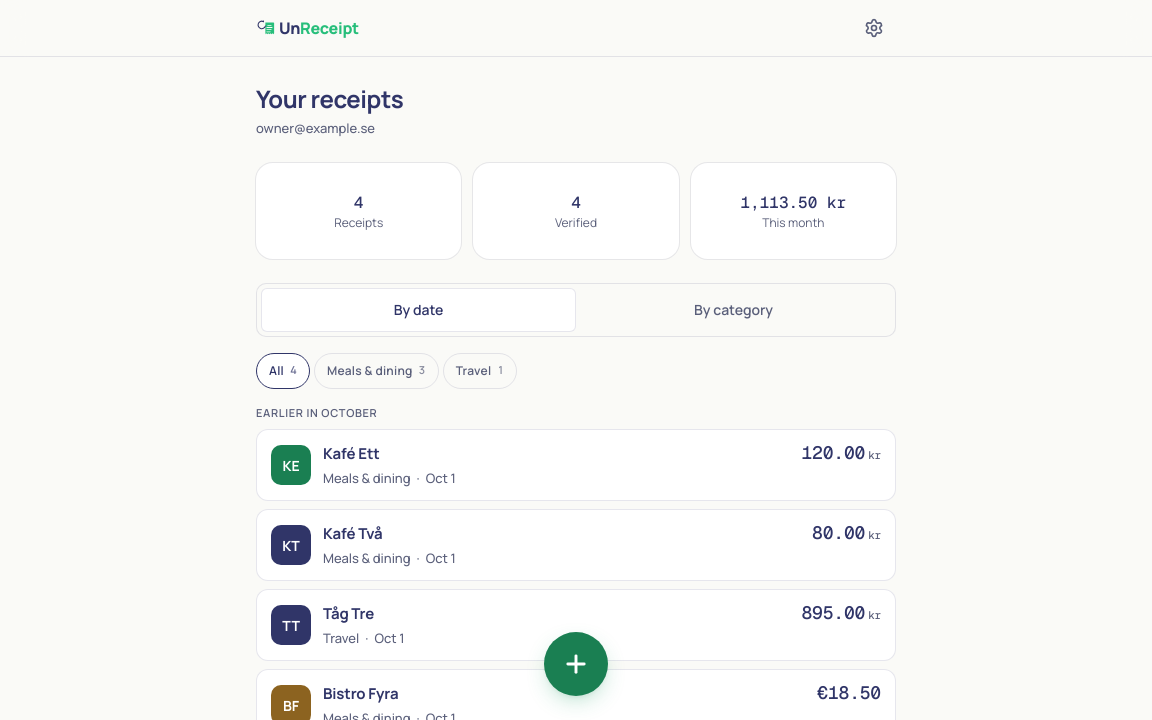
Test: Dashboard grouping and filters › groups by category, most used first, with a count and total per currency
This screenshot has width=1152, height=720.
Click the button "By category".
click(734, 310)  # box top-left (576, 288), bottom-right (891, 332)
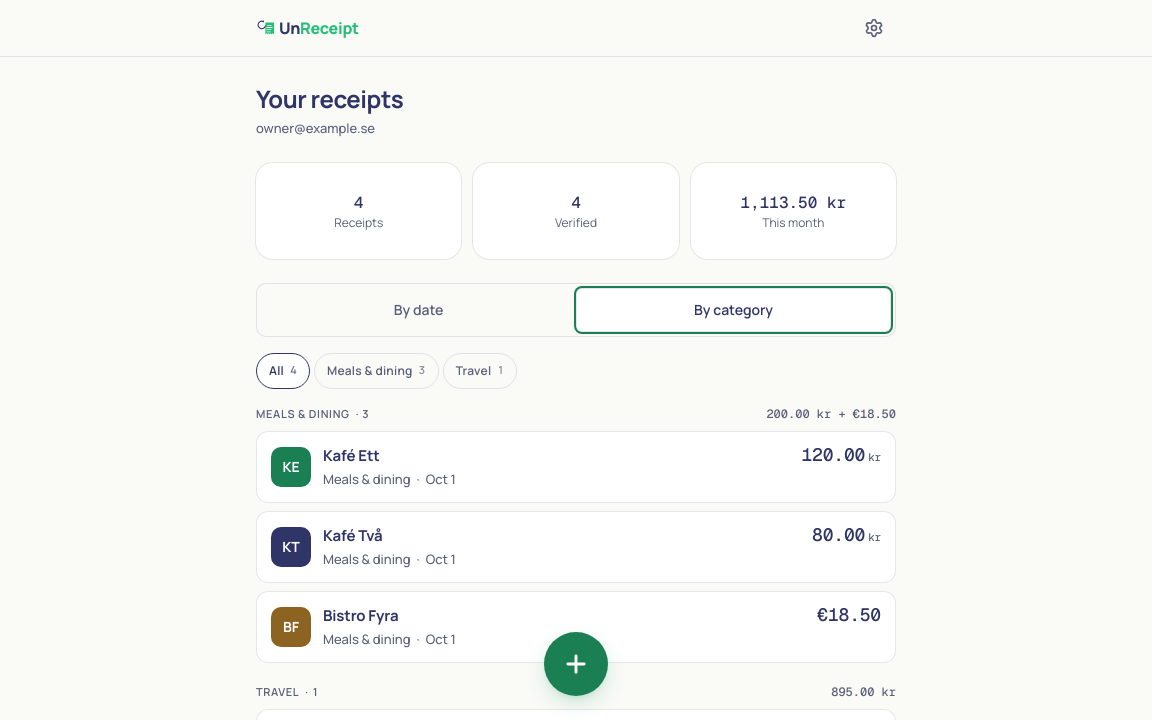
Now the headings read "Meals & dining· 3200.00 kr + €18.50", "Travel· 1895.00 kr", in this order, box top-left (256, 404), bottom-right (896, 422); top-left (256, 682), bottom-right (896, 700)
